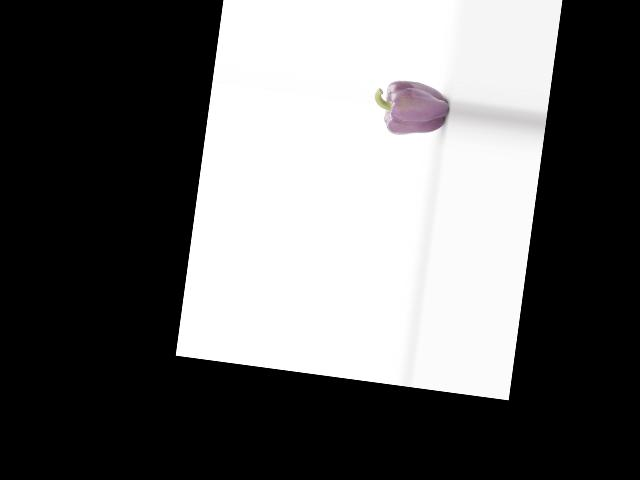bell_pepper: (370, 70, 451, 145)
